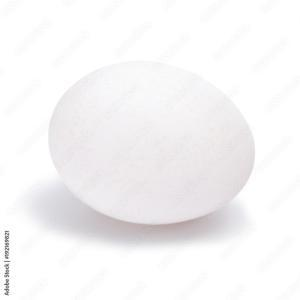Egg: (45, 57, 259, 229)
